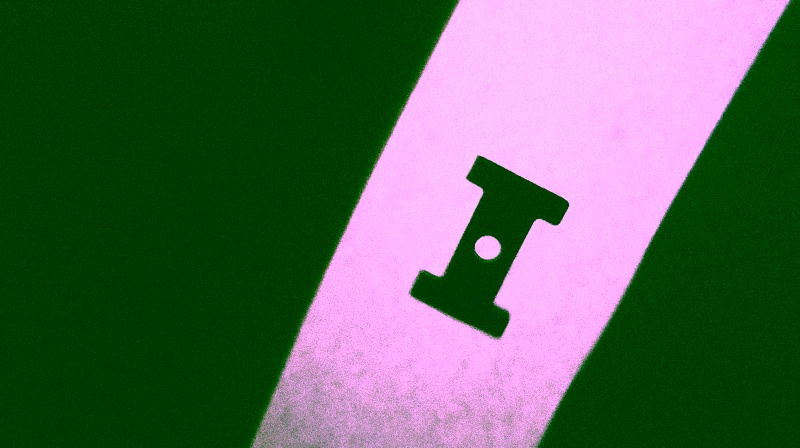O002: (402, 155, 572, 342)
